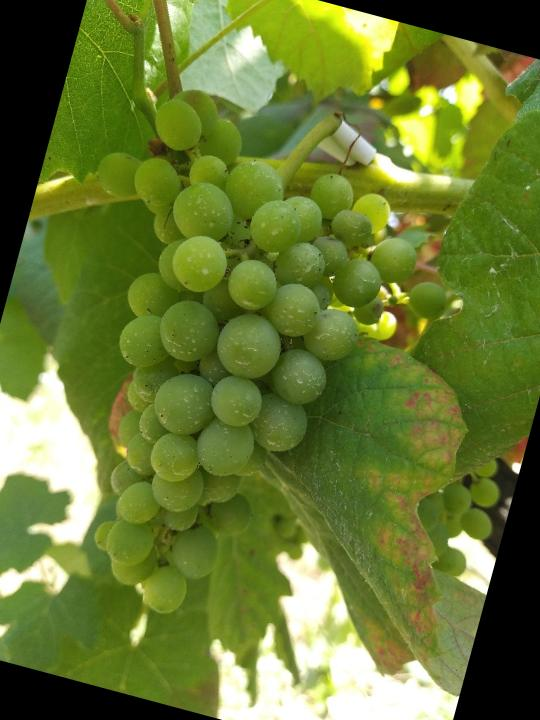grape: (0, 65, 485, 673)
